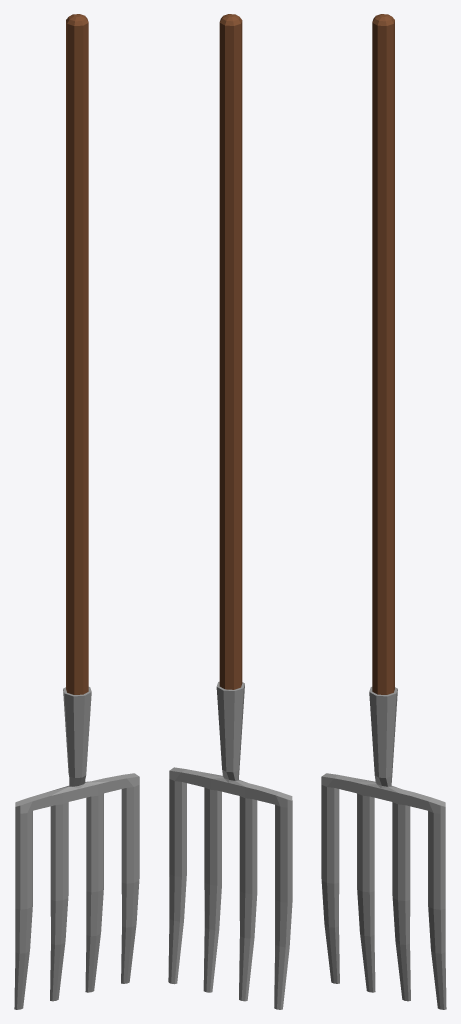
The model's file is fork01.obj.
3 renders of one model, left to right at view 1: azimuth 30°, elevation 25°; view 2: azimuth 150°, elevation 25°; view 3: azimuth 330°, elevation 25°, orthographic.
Visible parts, largest first — view 1: Cylinder; view 2: Cylinder; view 3: Cylinder.
Boxes of the visible parts, left/top/right/bottom form: Cylinder: left=14, top=14, right=139, bottom=1009; Cylinder: left=168, top=14, right=292, bottom=1009; Cylinder: left=321, top=14, right=446, bottom=1009.
Size of the model in its own units: 0.1634 by 1.24 by 0.0339.
Materials: 1 (1 with a texture image).
